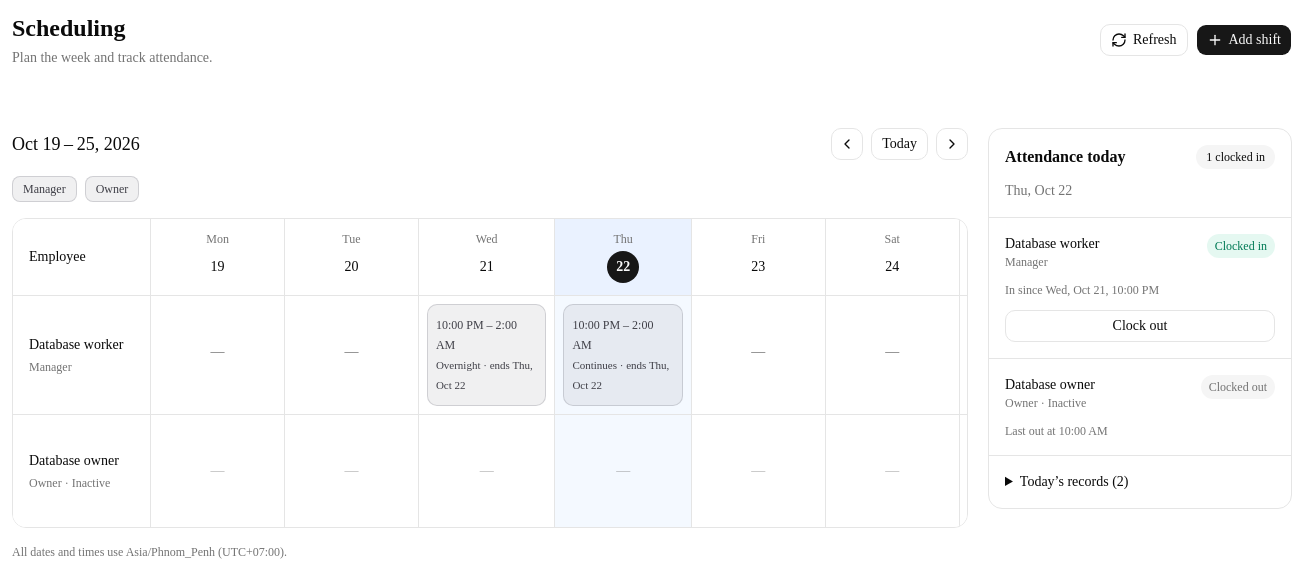
rejects a malformed successful attendance response without reporting success
The image size is (1304, 579).
Click the button with aria-label "Clock out Database worker". click: (1140, 326)
box: [1005,310,1275,342]
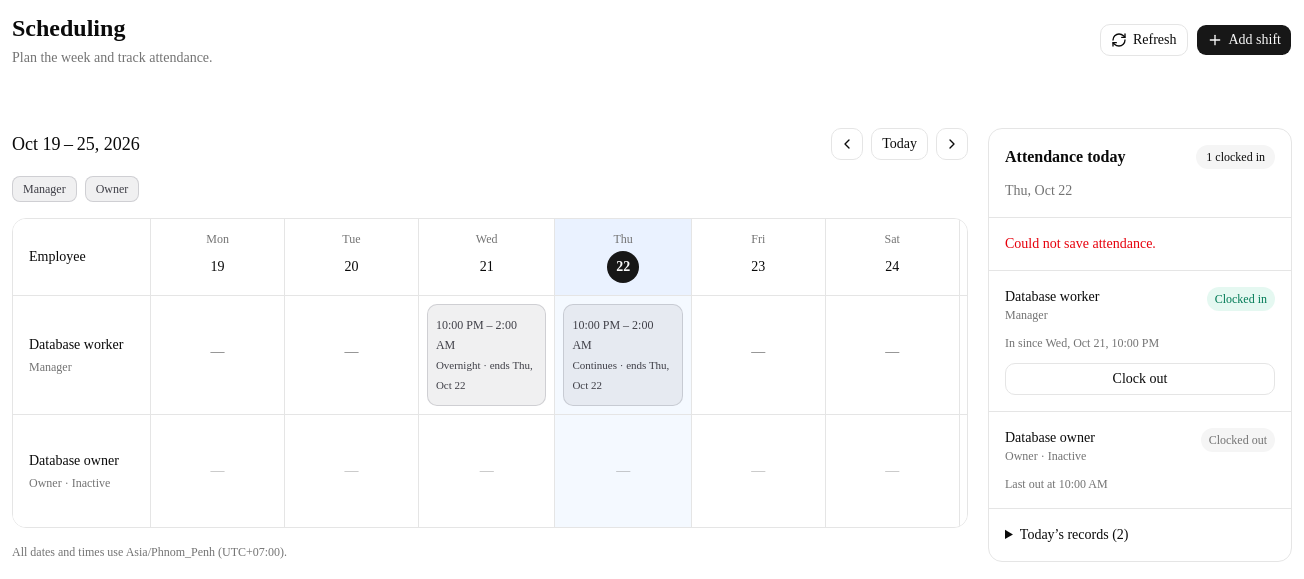
expect the text "1 clocked in" is shown: met, box [1196,145,1275,169]
expect the message "Could not save attendance." is shown: met, box [989,218,1291,271]
